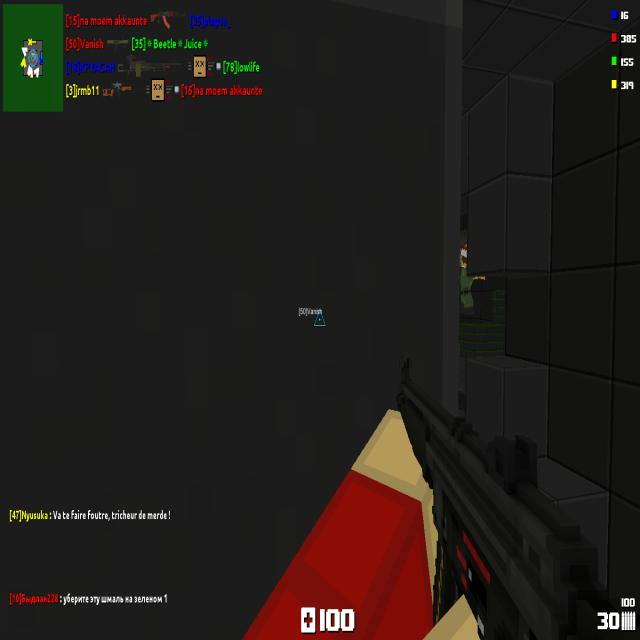enemy: (460, 245, 486, 317)
